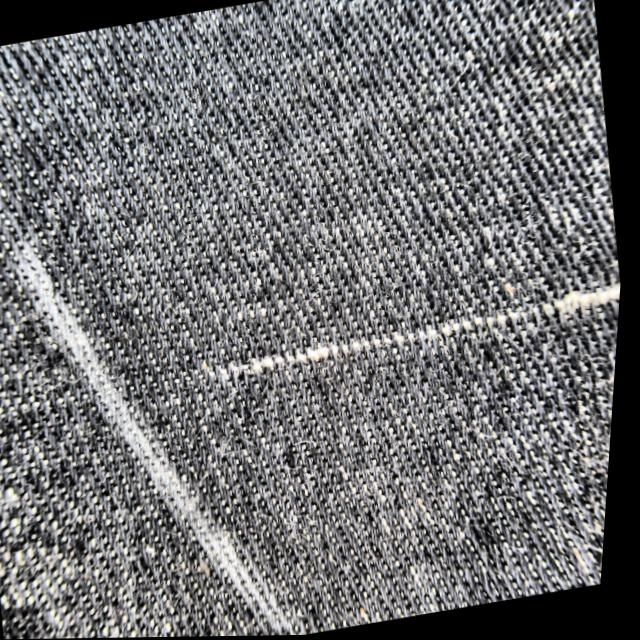Hole: (210, 287, 623, 397)
